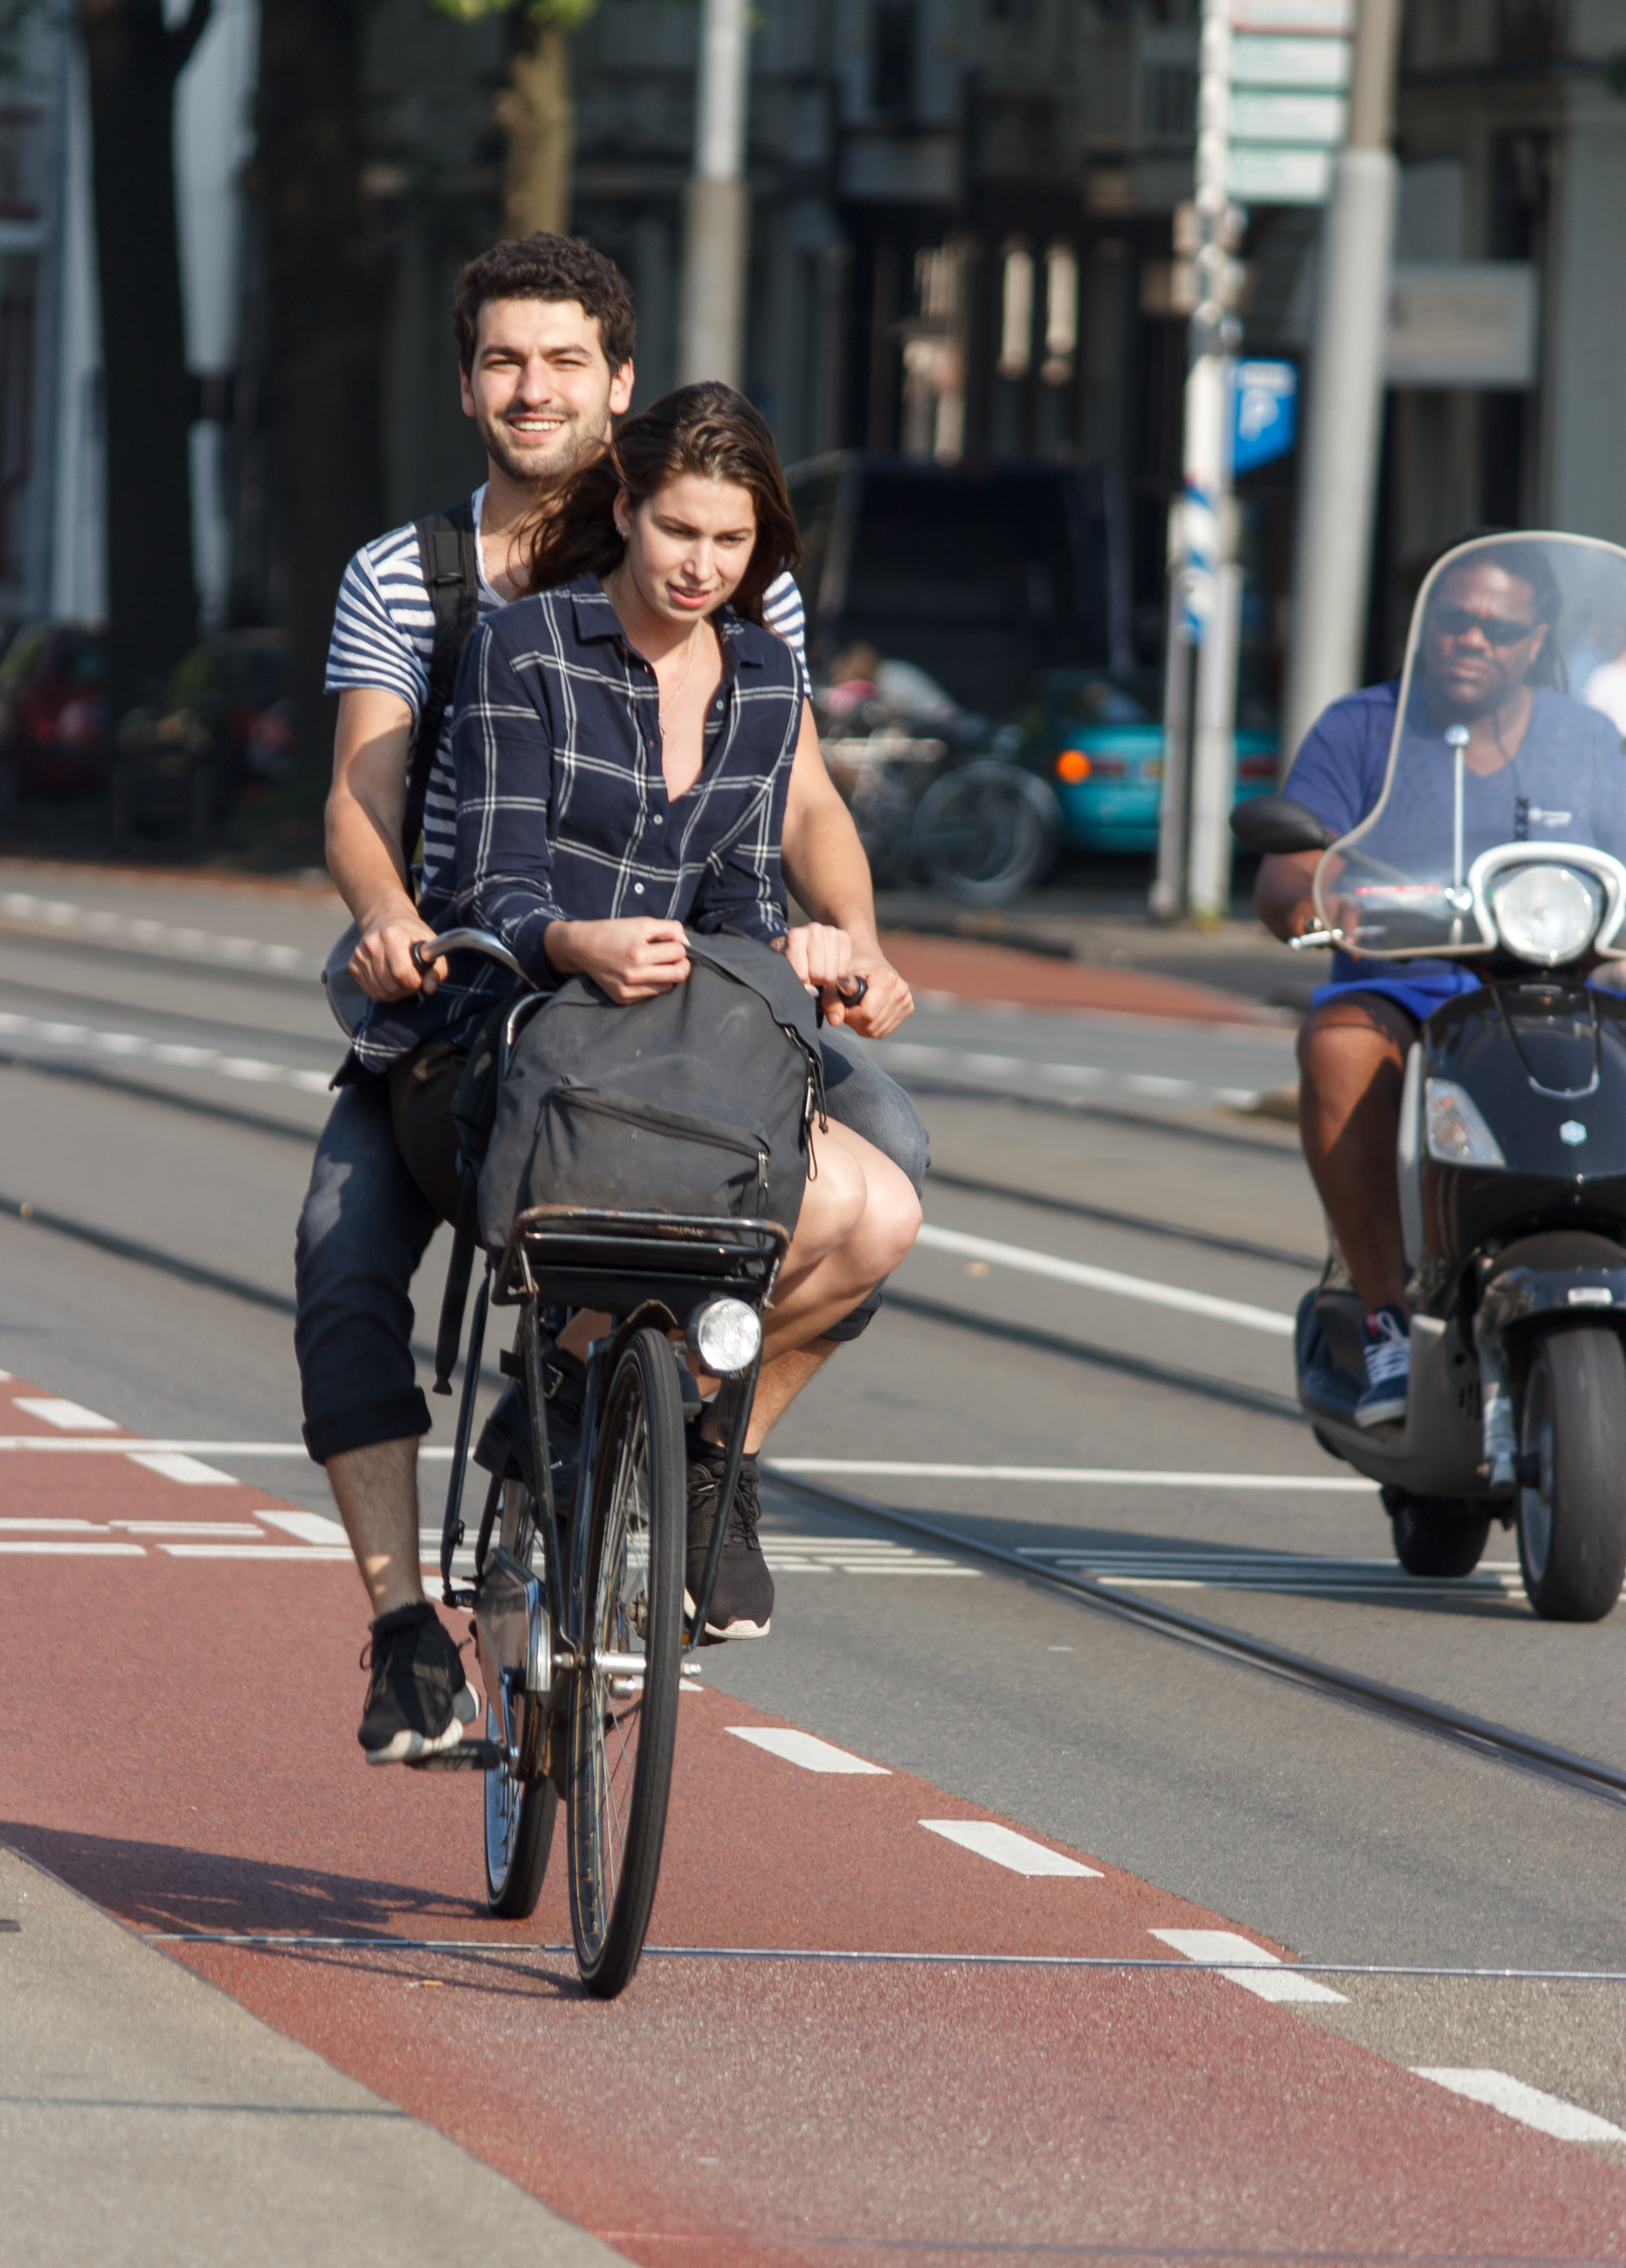cyclist_front: (450, 391, 824, 2001), (1273, 469, 1616, 1577)
